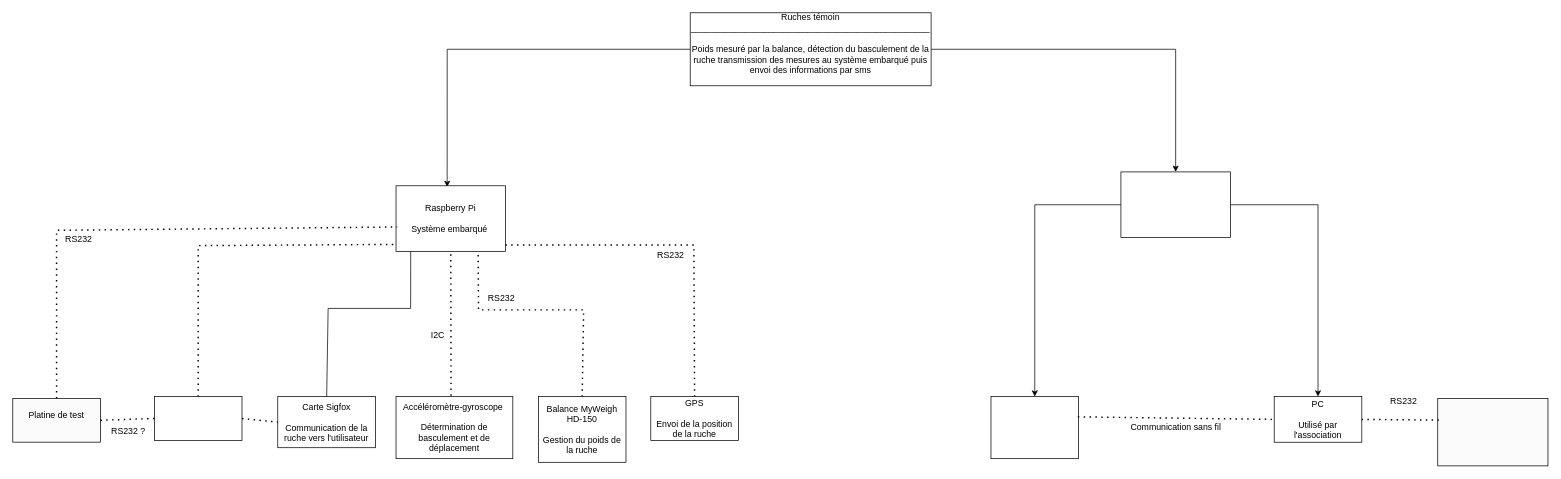
Some shapes in this 1561 by 479 pixel diagram are drawn without their labels. The box of each missing label's shape, as (x1, y1, x2, y2) in pixels:
Côté Association: (1120, 171, 1230, 238)
Module GSM: (154, 396, 242, 440)
Module GSM Réception des données envoyées par le module embarqué: (1437, 398, 1548, 466)
Téléphone Affichage des alertes envoyées par la ruche: (990, 396, 1079, 459)
